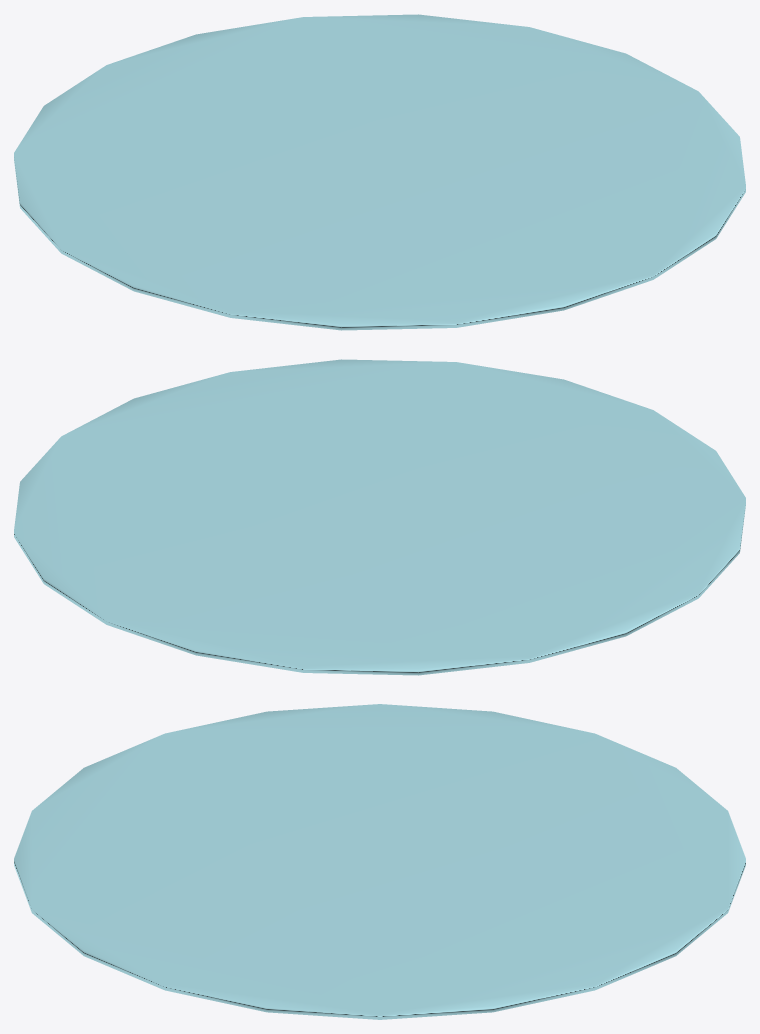
Rendered from CircleArea.fbx.
The picture shows the model from 3 angles, top to bottom: view 1: azimuth 30°, elevation 25°; view 2: azimuth 150°, elevation 25°; view 3: azimuth 270°, elevation 25°; orthographic projection.
Parts seen in each view (by area): view 1: pCylinder3; view 2: pCylinder3; view 3: pCylinder3.
Boxes of the visible parts, x1,y1,x2,y2 form: pCylinder3: (14, 14, 745, 330); pCylinder3: (14, 359, 745, 675); pCylinder3: (14, 704, 745, 1019).
Bounding box in the file's own units: 0.02 × 0.0002 × 0.02.
